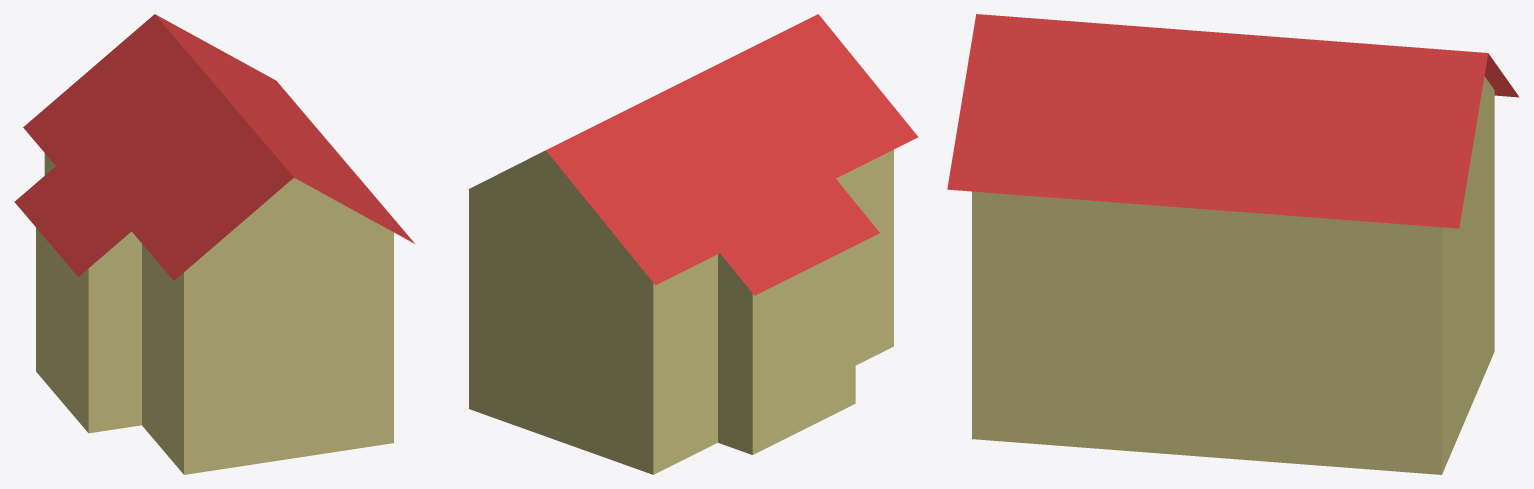
3 renders of one model, left to right at view 1: azimuth 30°, elevation 25°; view 2: azimuth 150°, elevation 25°; view 3: azimuth 270°, elevation 25°, orthographic. The views are drawn at different scales.
Bounding box in the file's own units: 15.87 × 19.99 × 14.04.
